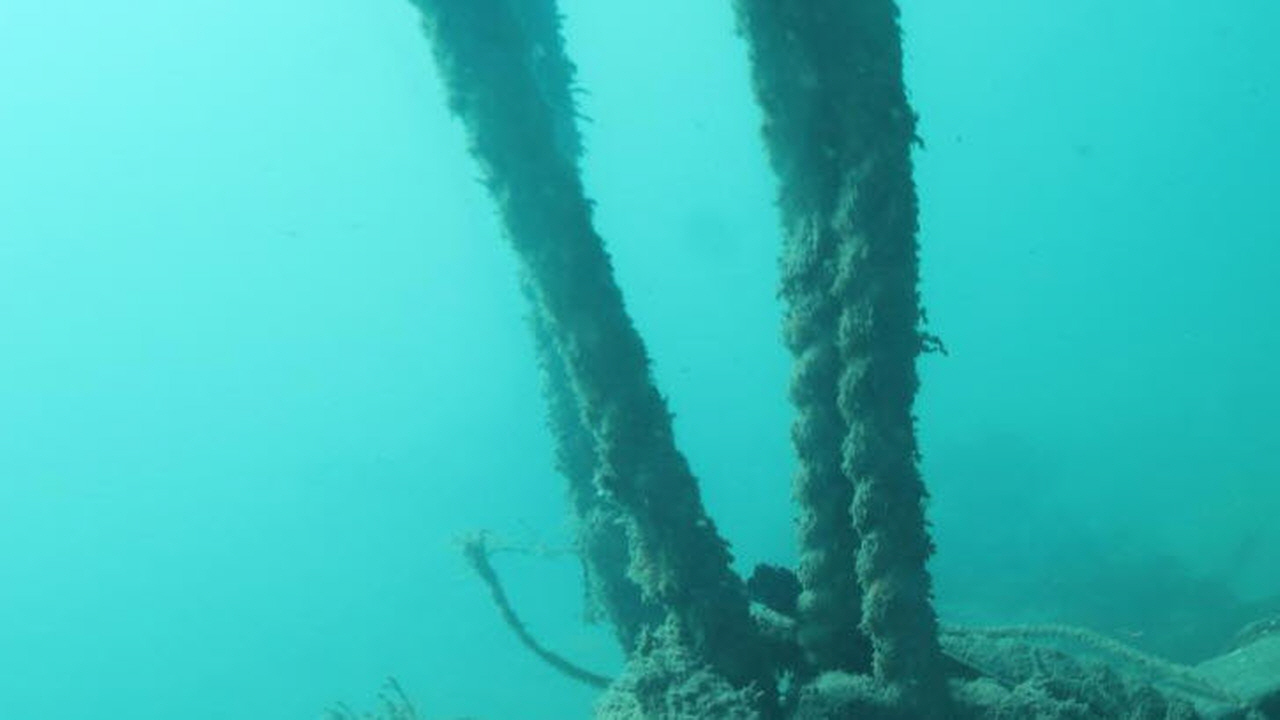bundle of ropes: (407, 0, 955, 716)
